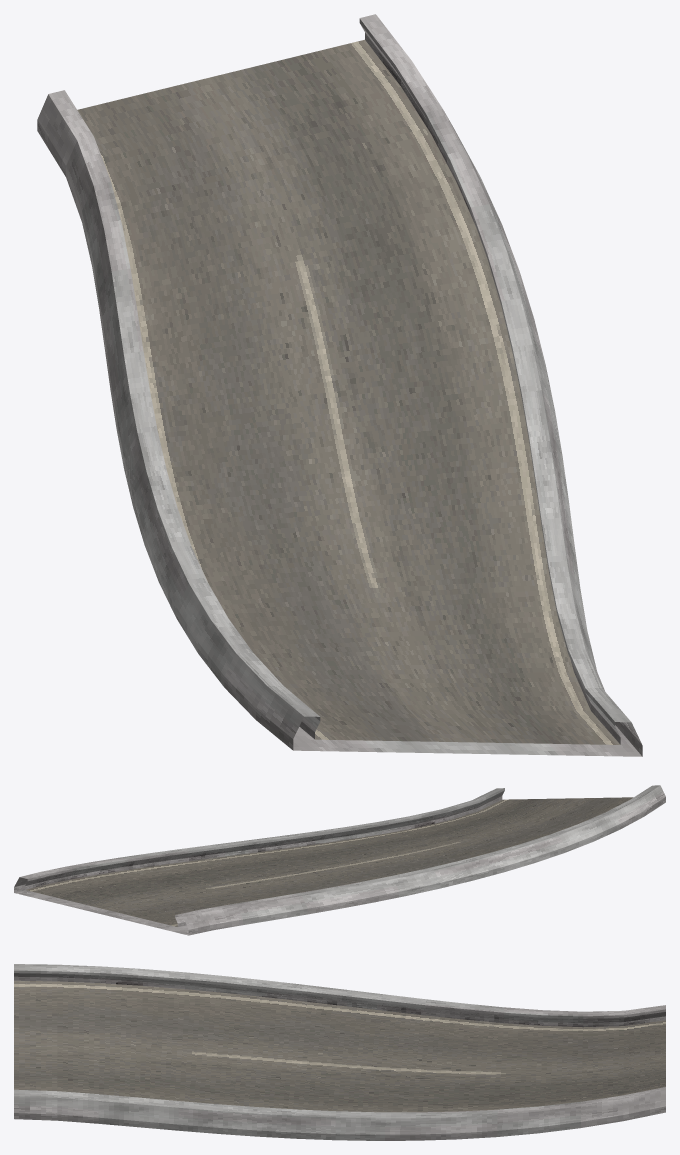
File: chicane-right1x3.glb
The picture shows the model from 3 angles, top to bottom: view 1: azimuth 30°, elevation 25°; view 2: azimuth 150°, elevation 25°; view 3: azimuth 270°, elevation 25°; orthographic projection. The views are drawn at different scales.
Parts seen in each view (by area): view 1: road-Chicane-HalfBankedRight-BiSlopeUp-Up2-Right1-Size3; view 2: road-Chicane-HalfBankedRight-BiSlopeUp-Up2-Right1-Size3; view 3: road-Chicane-HalfBankedRight-BiSlopeUp-Up2-Right1-Size3.
Boxes of the visible parts, x1,y1,x2,y2 form: road-Chicane-HalfBankedRight-BiSlopeUp-Up2-Right1-Size3: (37,14,642,756); road-Chicane-HalfBankedRight-BiSlopeUp-Up2-Right1-Size3: (14,785,665,935); road-Chicane-HalfBankedRight-BiSlopeUp-Up2-Right1-Size3: (14,964,665,1140).
Bounding box in the file's own units: 2 × 0.5937 × 3.
Materials: 2 (2 with a texture image).
